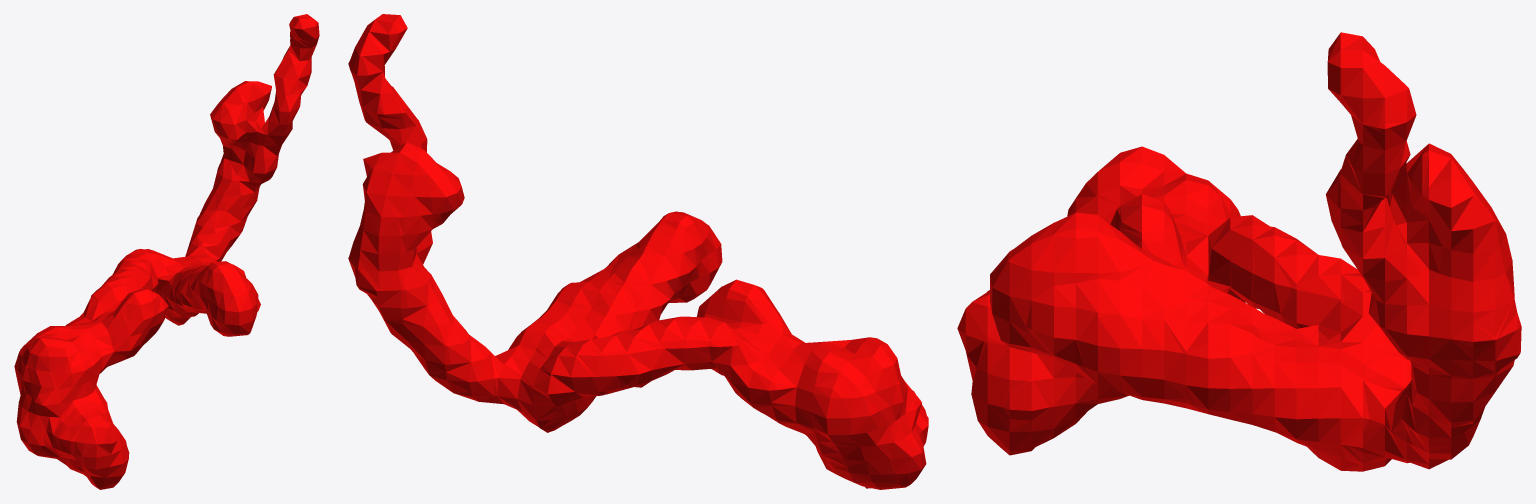
The model's file is yhiI_coarse.dae.
The picture shows the model from 3 angles, left to right: view 1: azimuth 30°, elevation 25°; view 2: azimuth 150°, elevation 25°; view 3: azimuth 270°, elevation 25°; orthographic projection. The views are drawn at different scales.
Visible parts, largest first — view 1: yhiI; view 2: yhiI; view 3: yhiI.
Part boxes in pixels (x1,y1,x2,y2): yhiI: [14, 14, 319, 489]; yhiI: [348, 14, 928, 489]; yhiI: [957, 32, 1521, 471].
Bounding box in the file's own units: 126 × 113 × 84.68.
